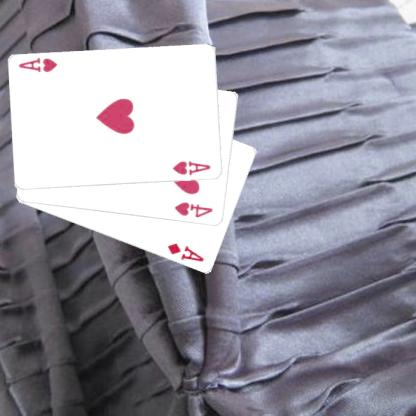4H: (174, 200, 216, 220)
AD: (166, 241, 208, 264)
AH: (18, 55, 61, 74), (172, 158, 213, 177)
